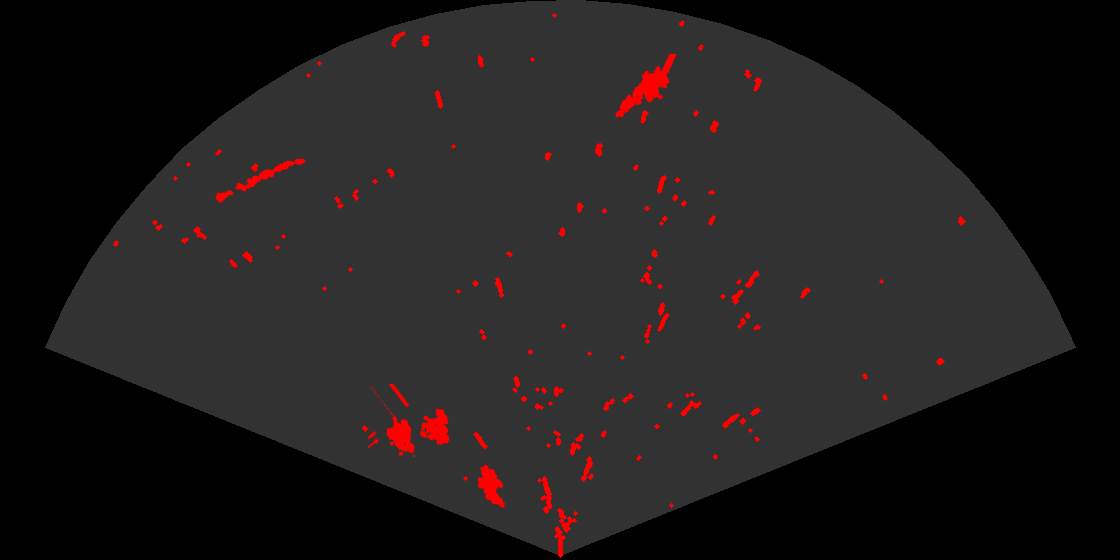AUV: (476, 463, 507, 510)
cage: (368, 384, 451, 458)
chain: (214, 157, 307, 204)
frogman: (614, 54, 678, 119)
